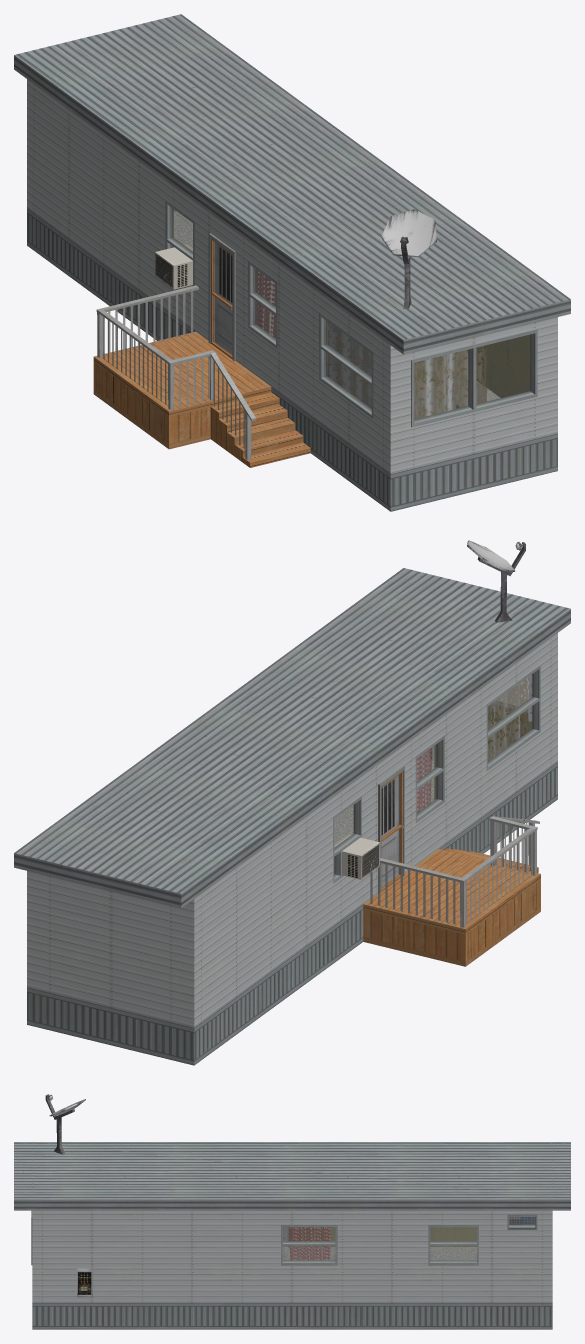
The model's file is trailer_01.glb.
3 views of the same model, one above another, from view 1: azimuth 30°, elevation 25°; view 2: azimuth 150°, elevation 25°; view 3: azimuth 270°, elevation 25° (orthographic). The views are drawn at different scales.
Parts seen in each view (by area): view 1: Home, Mesh_03, railing, Curtain_01.002, Frame_Windows_03, Mesh_02, Antenna, Door_Mesh, Curtain_01.001, Frame_Windows, Door, air-conditioning (+6 smaller); view 2: Home, railing, Mesh_02, Door_Mesh, Curtain_01.001, Frame_Windows, Door, air-conditioning, Antenna, Mesh_01, Frame_Windows_01, Frame_Windows_02 (+2 smaller); view 3: Home, Mesh_04, Mesh_05, Curtain.002, Frame_Windows_04, Frame_Windows_05, Antenna, Fuse_box.002, Frame_Windows_06.
Boxes of the visible parts, x1,y1,x2,y2 form: Home: (14,14,570,511); Mesh_03: (414,334,532,421); railing: (96,285,256,459); Curtain_01.002: (414,345,486,418); Frame_Windows_03: (411,329,537,427); Mesh_02: (324,319,371,411); Antenna: (381,209,436,309); Door_Mesh: (211,238,232,359); Curtain_01.001: (328,322,371,408); Frame_Windows: (319,313,373,418); Door: (215,242,232,354); air-conditioning: (155,244,192,289); Home: (14,568,570,1065); railing: (370,816,539,927); Mesh_02: (488,672,535,764); Door_Mesh: (381,771,403,891); Curtain_01.001: (488,678,527,760); Frame_Windows: (486,665,540,771); Door: (381,775,398,886); air-conditioning: (334,834,379,879); Antenna: (467,540,525,622); Mesh_01: (417,742,439,816); Frame_Windows_01: (415,735,444,823); Frame_Windows_02: (333,796,361,883); Home: (14,1142,570,1329); Mesh_04: (283,1227,334,1261); Mesh_05: (430,1227,476,1261); Curtain.002: (289,1227,330,1260); Frame_Windows_04: (281,1225,337,1265); Frame_Windows_05: (428,1225,478,1265); Antenna: (45,1094,85,1154); Fuse_box.002: (77,1268,92,1297); Frame_Windows_06: (507,1214,537,1229).
Bounding box in the file's own units: 6.21 × 5.7 × 15.11.
Materials: 17 (17 with a texture image).
